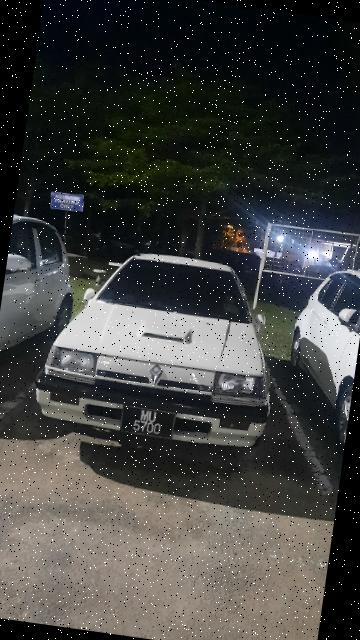License_Plate: (116, 400, 177, 442)
car: (29, 239, 293, 467), (275, 258, 360, 454), (1, 203, 88, 383)
